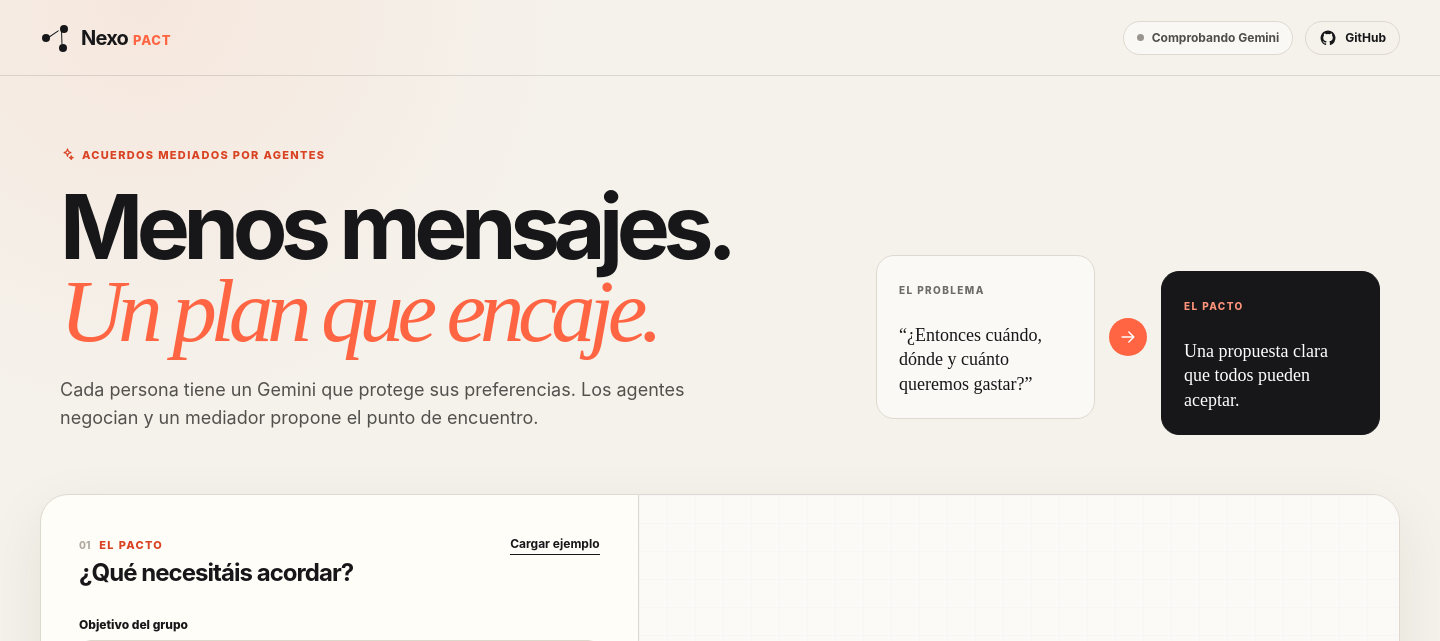
Test: loads the demo and renders a mediated proposal
Click the button "Cargar ejemplo". click: (555, 544)
box: [510,533,600,555]
(page scrolled)
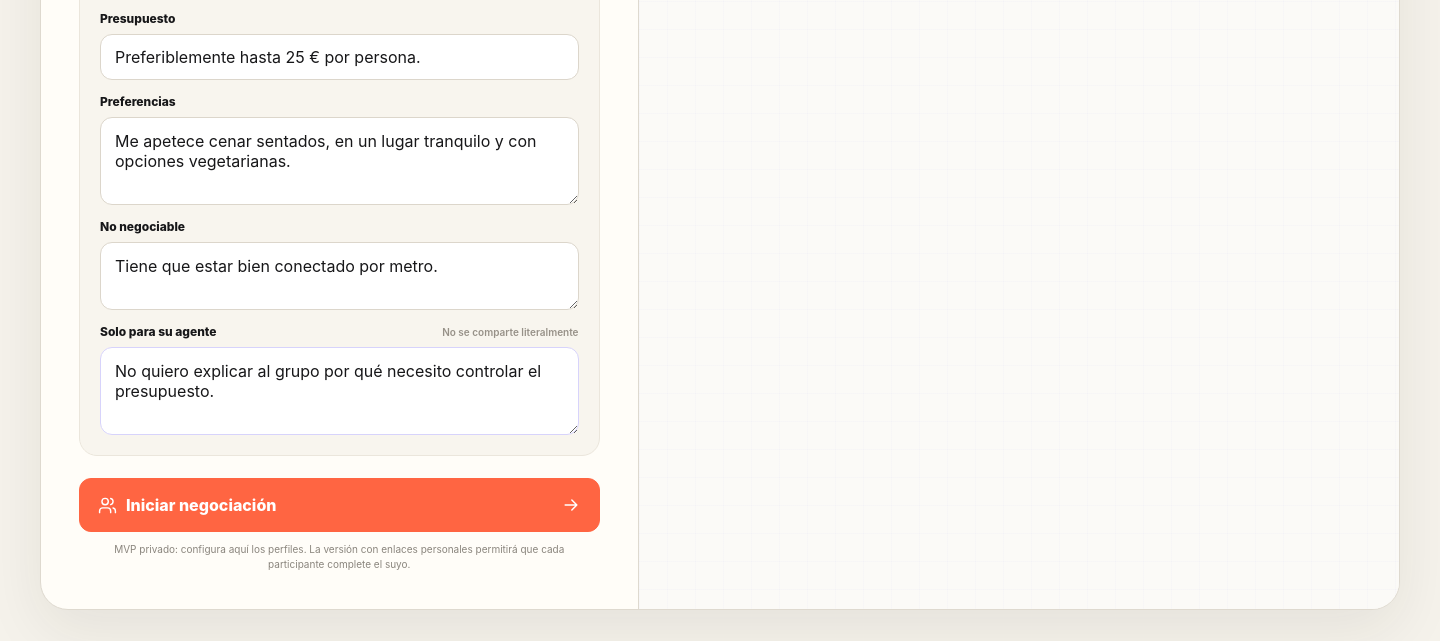
Click the button "Iniciar negociación". click: (201, 505)
box: [79,478,600,532]
(page scrolled)
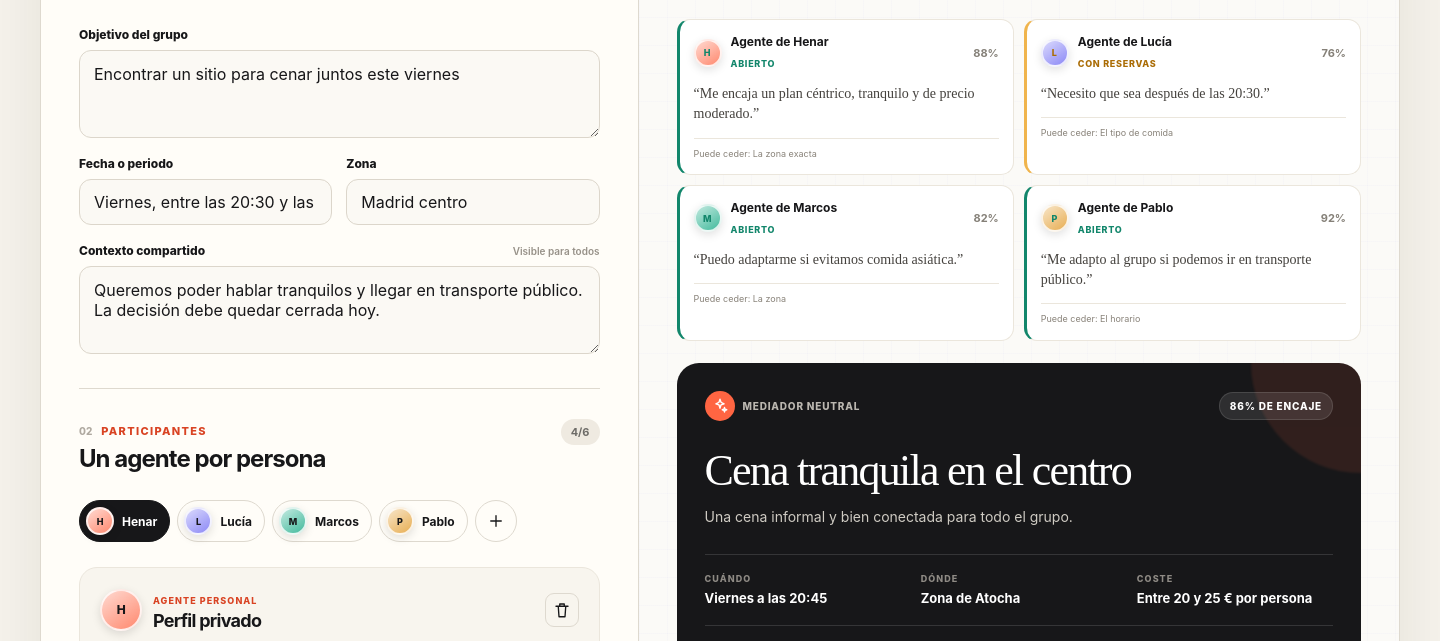
Result: the heading "Cena tranquila en el centro" is shown at [704,446,1131,494]
Result: the text "86% de encaje" is shown at [1219,392,1333,420]
